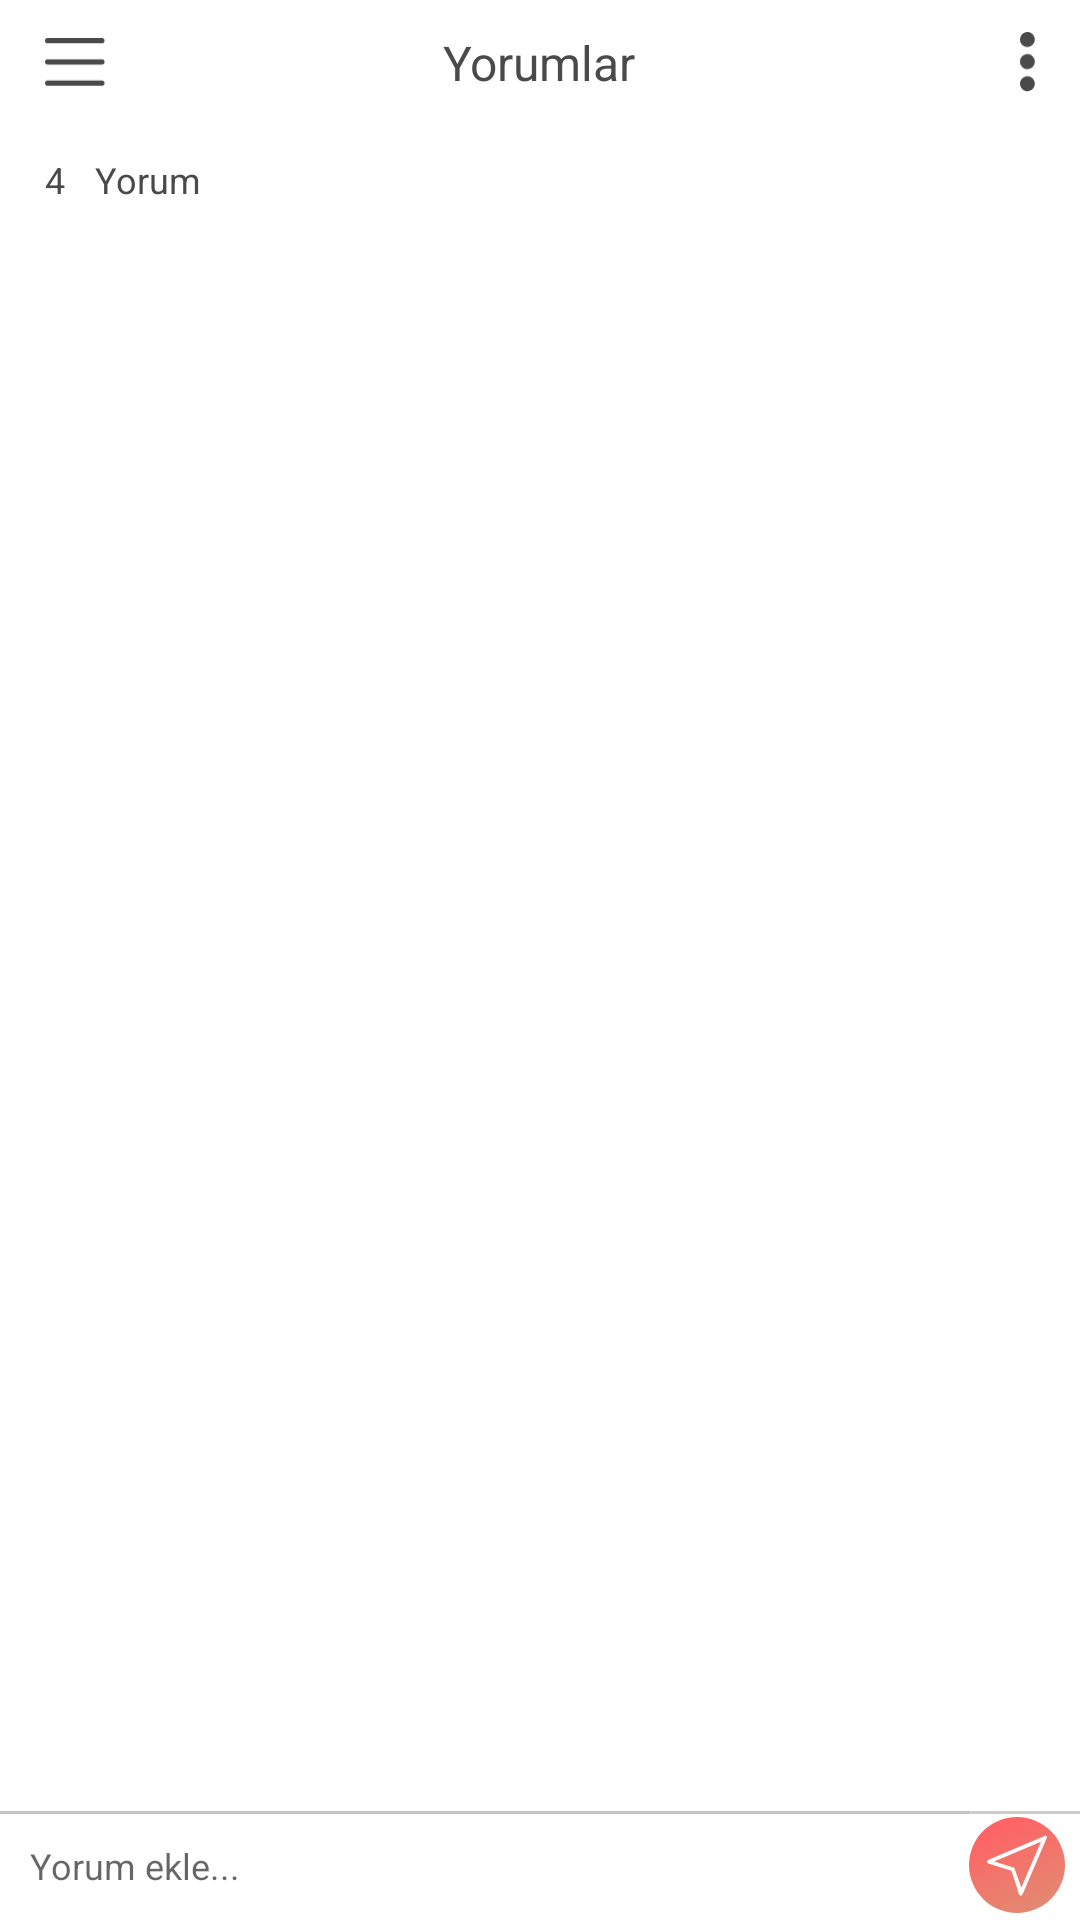

Icons on this 1080×1920 Android screen, each with the point to tap as [x,y]:
menu: [75,62]
send: [1017,1865]
